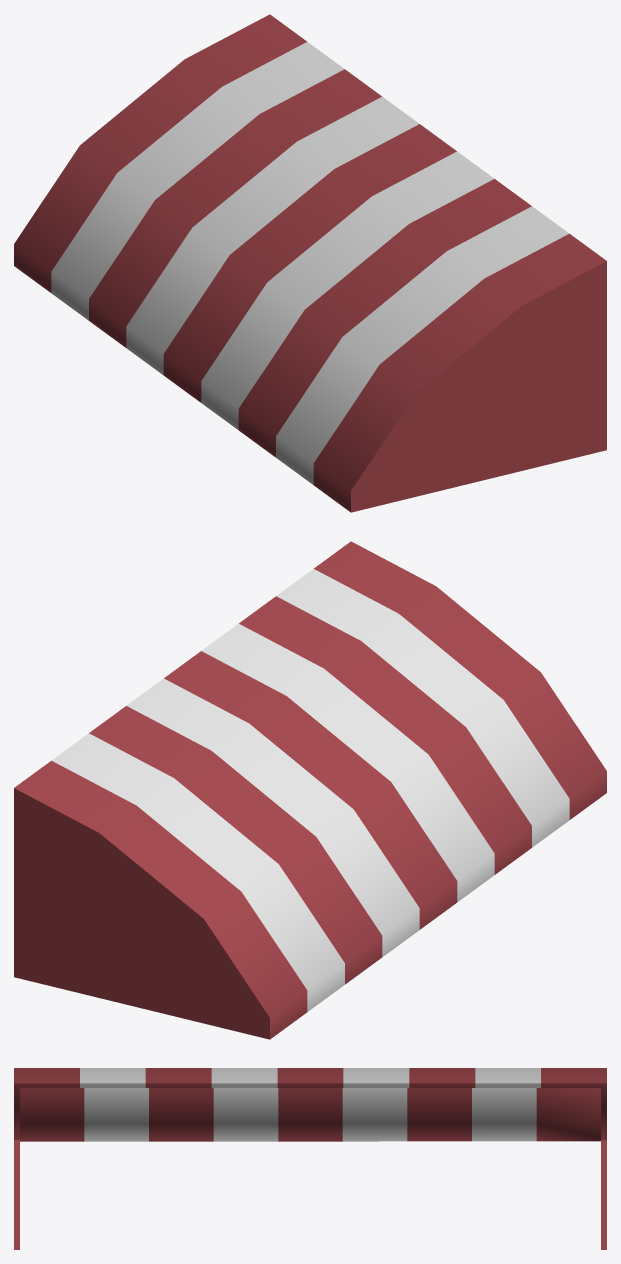
Rendered from Awning_1_F.fbx.
The picture shows the model from 3 angles, top to bottom: view 1: azimuth 30°, elevation 25°; view 2: azimuth 150°, elevation 25°; view 3: azimuth 270°, elevation 25°; orthographic projection. The views are drawn at different scales.
Visible parts, largest first — view 1: Awning_1_F; view 2: Awning_1_F; view 3: Awning_1_F.
Boxes of the visible parts, box(x1,y1,x2,y2) form: Awning_1_F: box(14, 14, 606, 512); Awning_1_F: box(14, 541, 606, 1039); Awning_1_F: box(14, 1068, 606, 1249).
Bounding box in the file's own units: 123 × 86.57 × 280.
